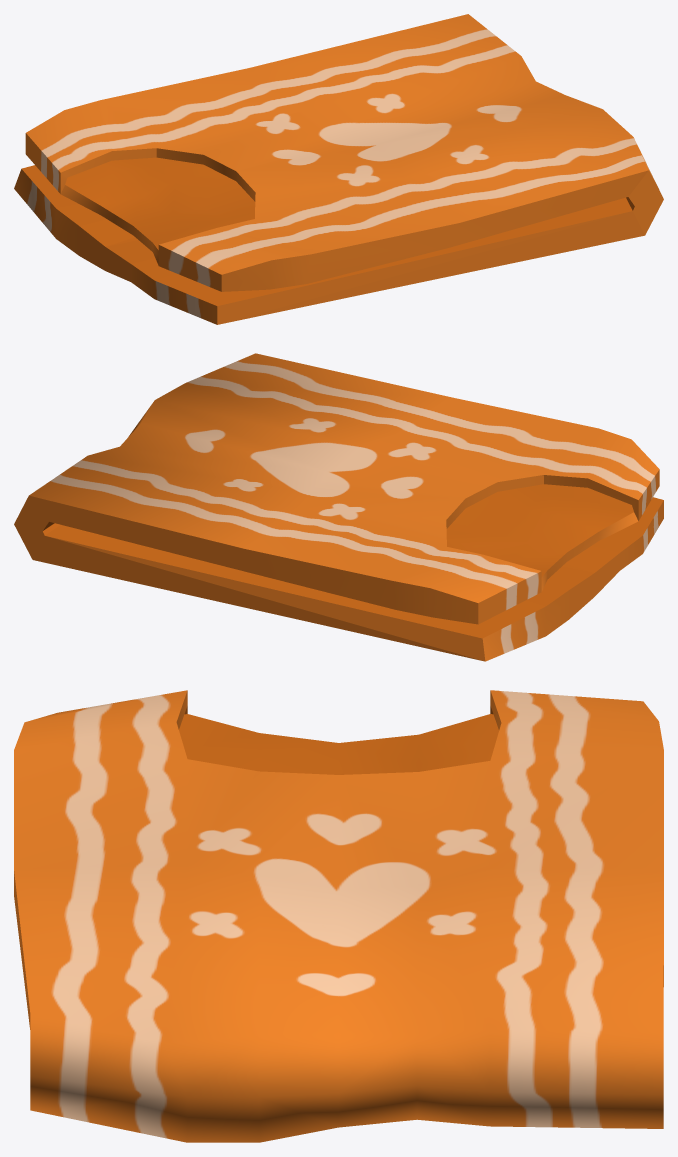
Rendered from Sweater.FBX.
The picture shows the model from 3 angles, top to bottom: view 1: azimuth 30°, elevation 25°; view 2: azimuth 150°, elevation 25°; view 3: azimuth 270°, elevation 25°; orthographic projection. The views are drawn at different scales.
Visible parts, largest first — view 1: Box001; view 2: Box001; view 3: Box001.
Boxes of the visible parts, x1,y1,x2,y2 form: Box001: (14, 14, 663, 324); Box001: (14, 353, 663, 661); Box001: (14, 690, 663, 1142).
Size of the model in its own units: 15.86 by 2.35 by 11.89.
1 material, 1 textured.
